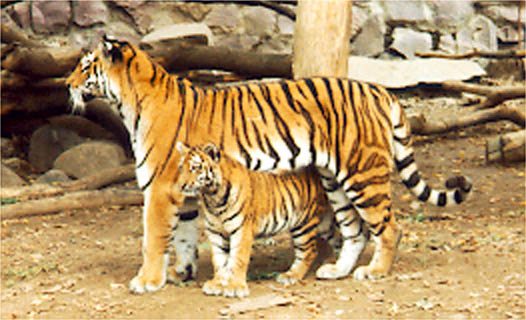Tigre: (57, 34, 435, 286), (171, 142, 330, 284)
